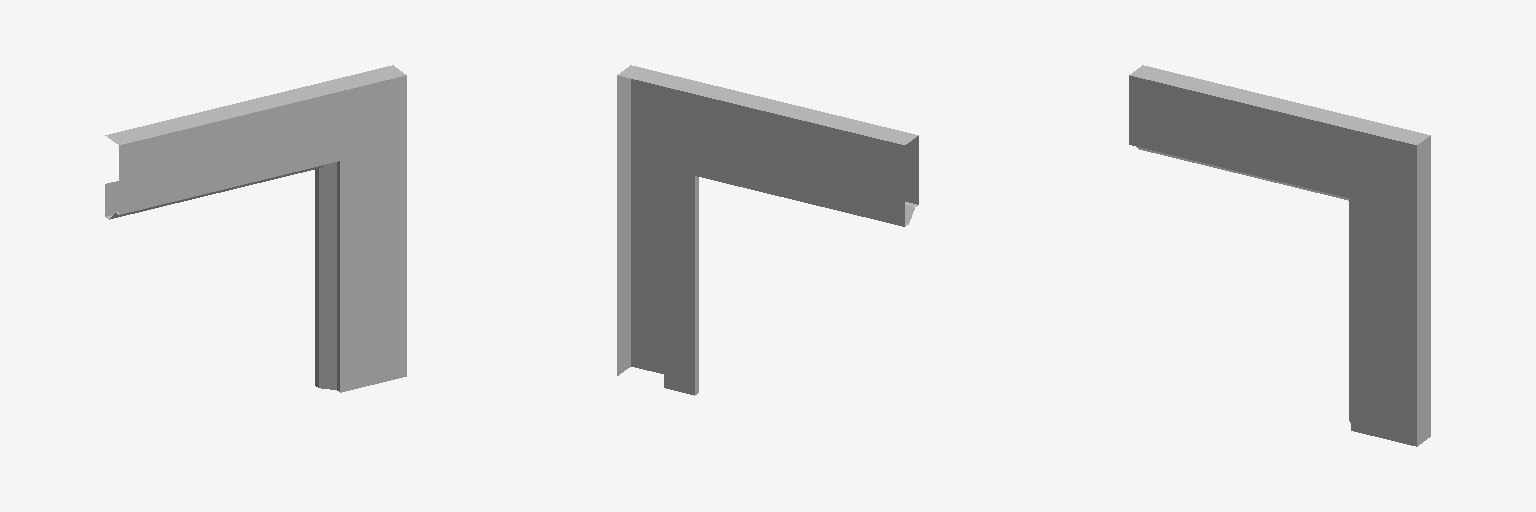
Rendered from original-195.obj.
The picture shows the model from 3 angles: view 1: azimuth 30°, elevation 25°; view 2: azimuth 150°, elevation 25°; view 3: azimuth 330°, elevation 25°; orthographic projection.
Visible parts, largest first — view 1: #ID1128; view 2: #ID1128; view 3: #ID1128.
Part boxes in pixels (bbox=[...]): #ID1128: bbox=[105, 65, 406, 392]; #ID1128: bbox=[617, 65, 918, 395]; #ID1128: bbox=[1129, 65, 1430, 446].
Size of the model in its own units: 0.1274 by 0.1274 by 0.0106.